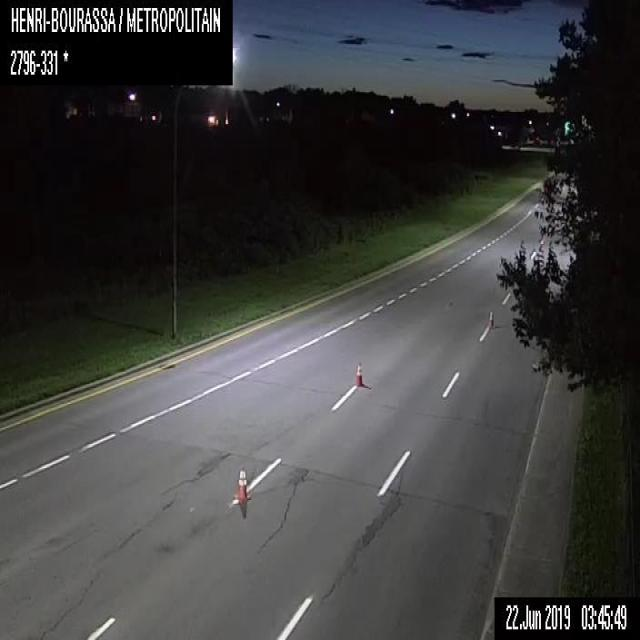construction: (234, 469, 247, 503), (354, 361, 362, 387), (487, 309, 493, 328)
